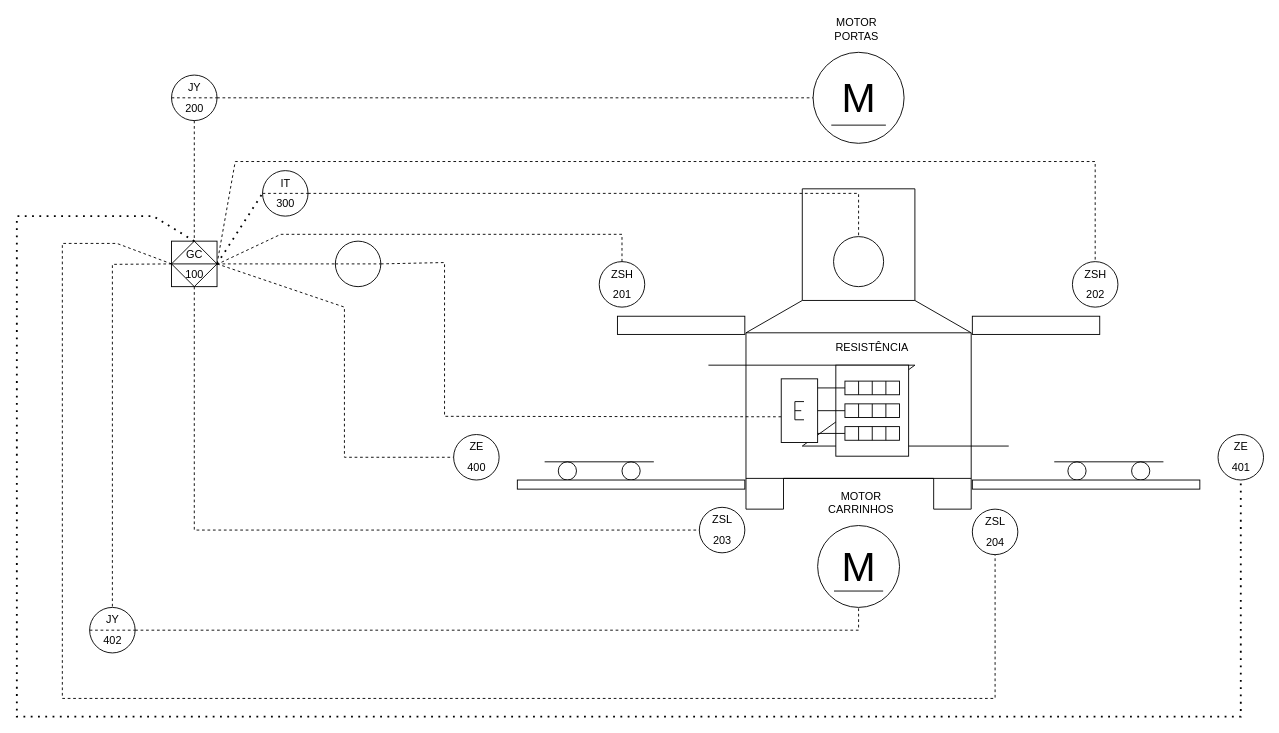
Some shapes in this 1279 by 733 pixel diagram are drawn without their labels. The centre of each missing label's shape, as x and y in pixels:
JY 302: point 357,263
TE 301: point 858,261
